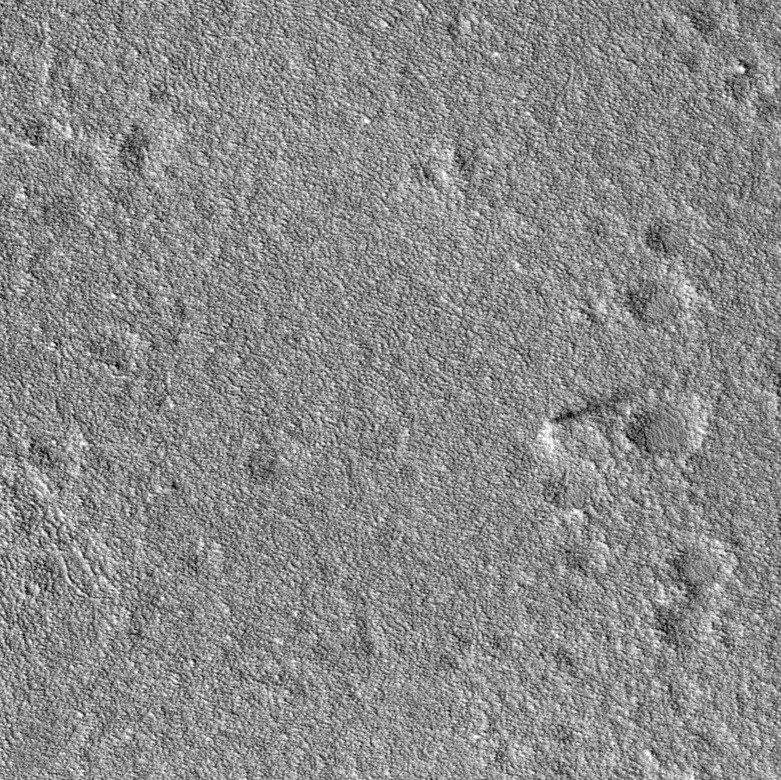dust_devil: (535, 385, 641, 453)
